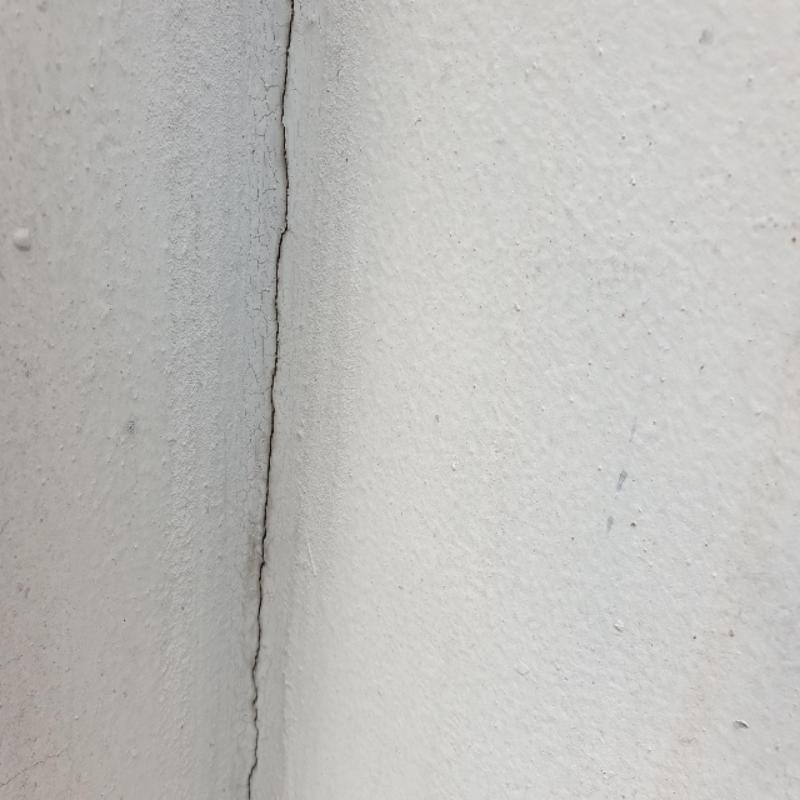crack: (244, 0, 297, 799)
